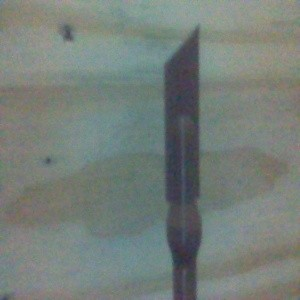cutter: (162, 20, 203, 300)
